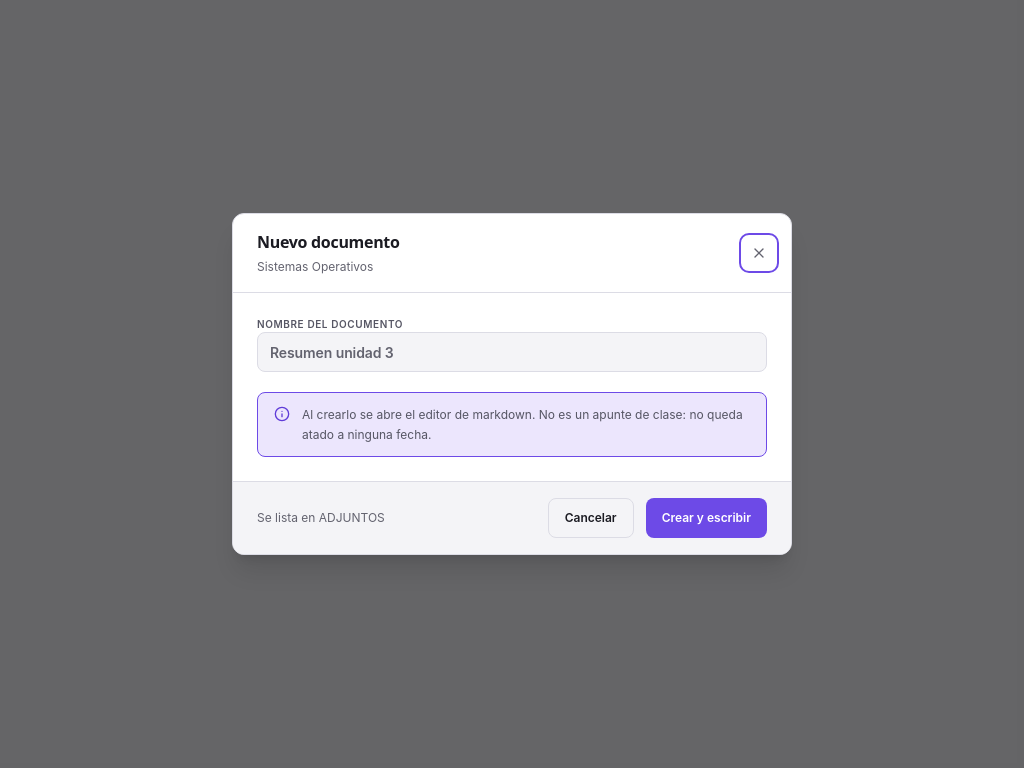
Test case: NuevoDocumentoModal › previews the file name the typed name will produce
Type "Análisis matemático" into the field labelled "NOMBRE DEL DOCUMENTO". click: [512, 352]
box: [257,332,767,372]
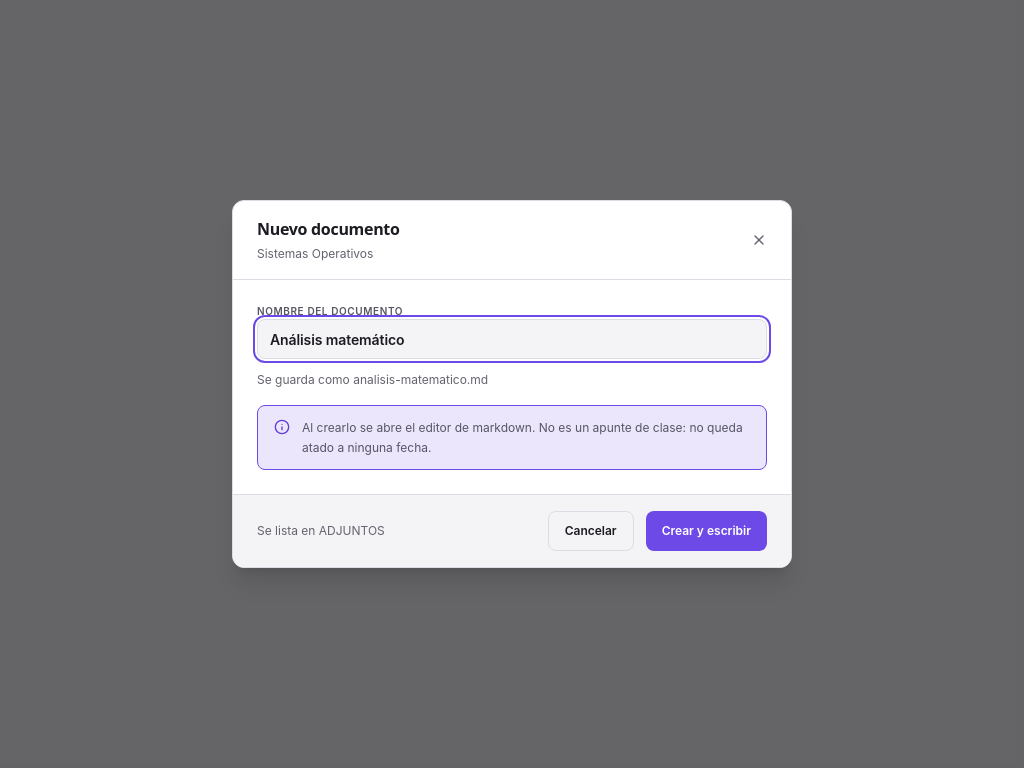
Result: the text "Se guarda como analisis-matematico.md" is shown at [257,372,488,387]
